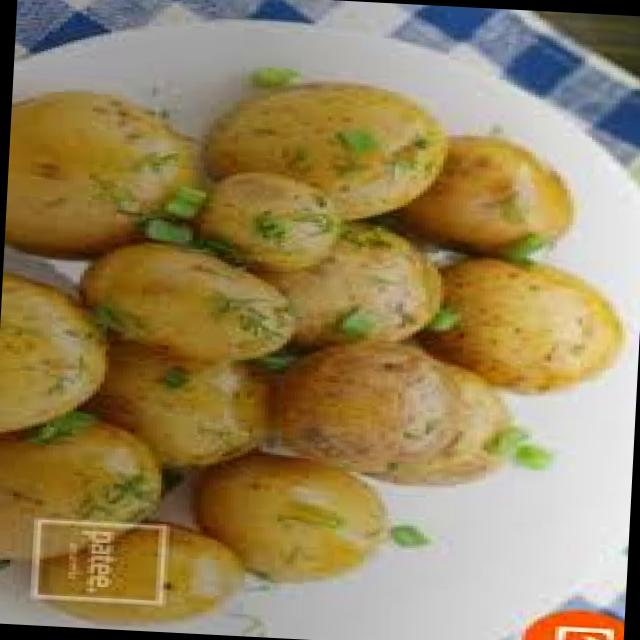Potato: (164, 72, 462, 242), (2, 86, 210, 278), (279, 340, 536, 489), (382, 121, 605, 280), (0, 416, 193, 587), (104, 340, 306, 500), (421, 247, 635, 396), (87, 245, 311, 372), (202, 452, 396, 594), (0, 277, 149, 452), (23, 521, 246, 636), (190, 160, 352, 284), (308, 226, 452, 360)
